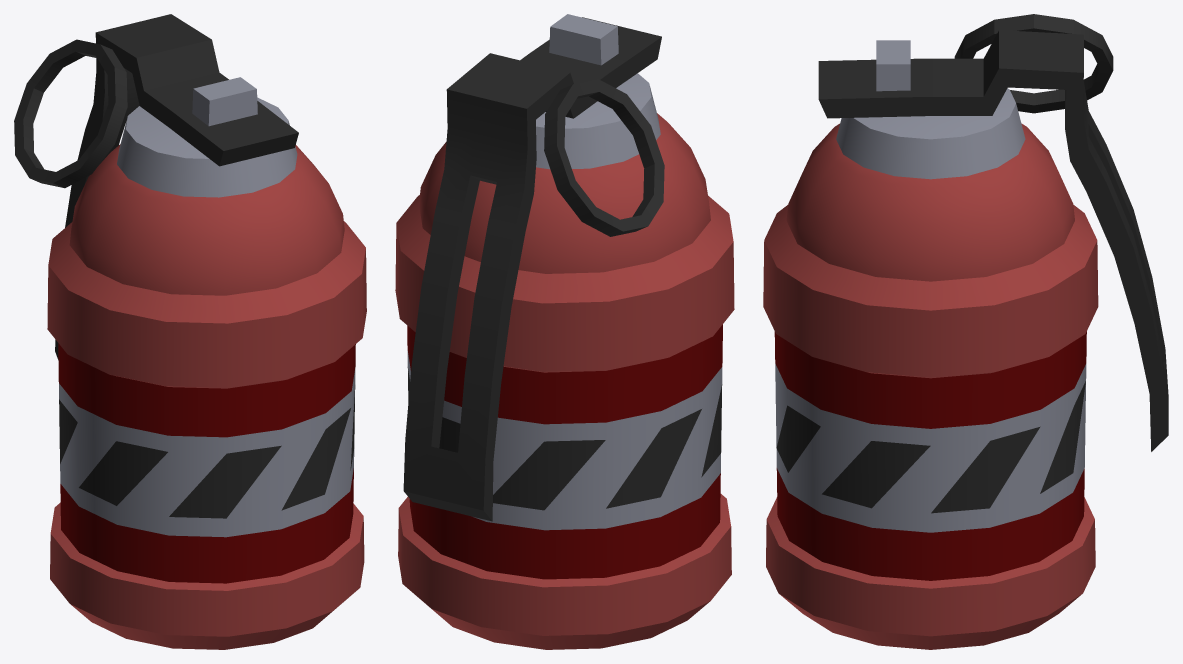
The model's file is SM_FireGrenade.fbx.
3 renders of one model, left to right at view 1: azimuth 30°, elevation 25°; view 2: azimuth 150°, elevation 25°; view 3: azimuth 270°, elevation 25°, orthographic. The views are drawn at different scales.
Parts seen in each view (by area): view 1: SM_FireGrenade; view 2: SM_FireGrenade; view 3: SM_FireGrenade.
Part boxes in pixels (bbox=[...]): SM_FireGrenade: bbox=[14, 14, 366, 649]; SM_FireGrenade: bbox=[395, 14, 734, 649]; SM_FireGrenade: bbox=[763, 14, 1168, 649].
Size of the model in its own units: 0.4706 by 0.85 by 0.5695.
